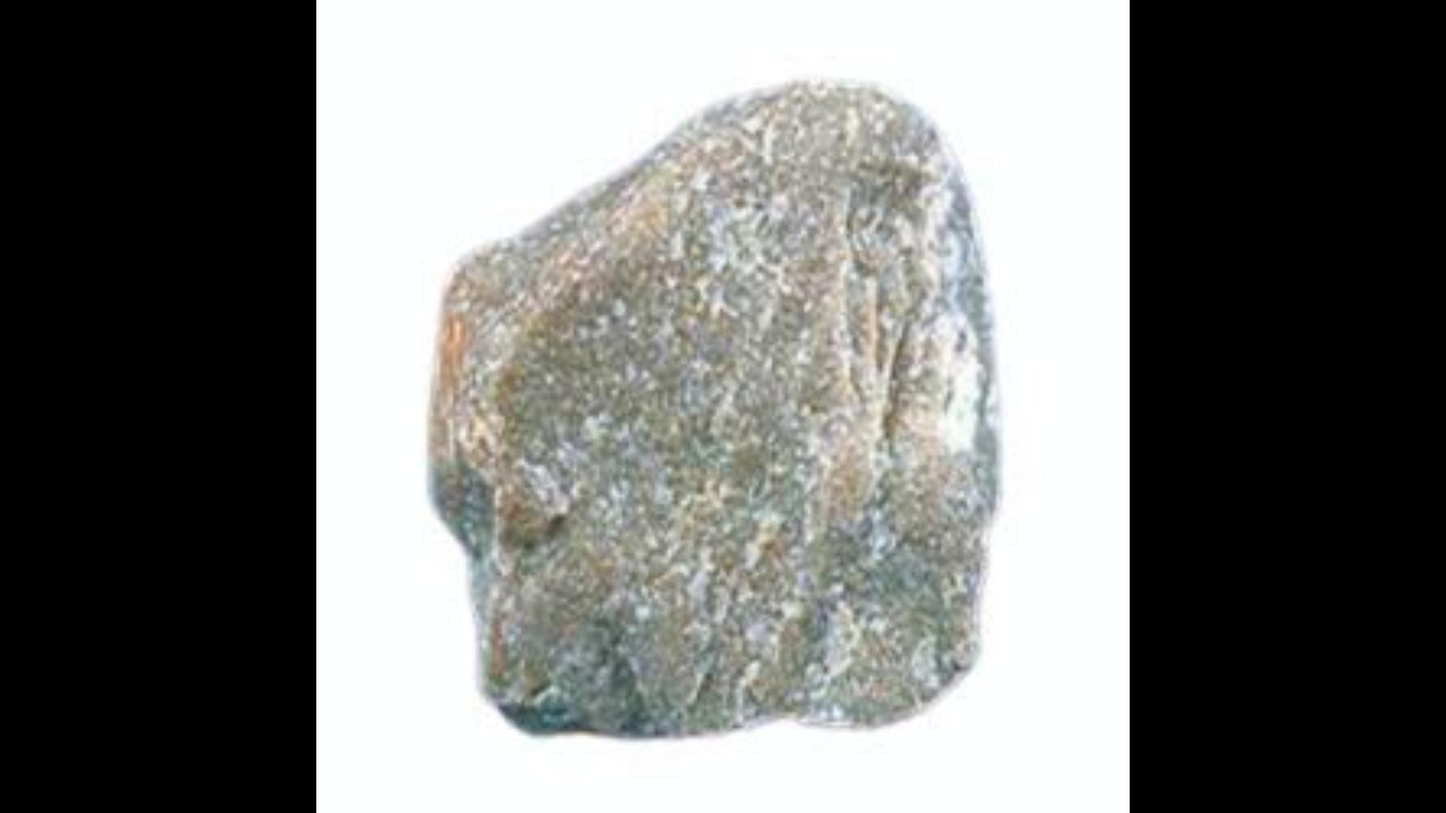rock: (430, 81, 993, 722)
